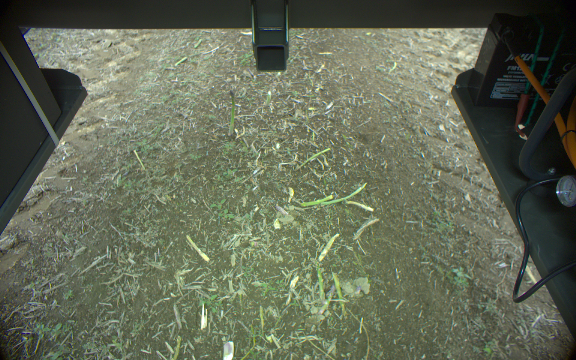aspa: (322, 181, 368, 208), (295, 147, 329, 170), (330, 273, 347, 316), (311, 261, 325, 306), (298, 194, 333, 208), (227, 89, 236, 137)
